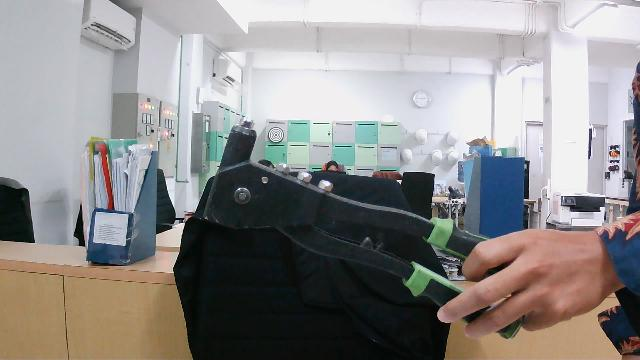tang_rivet: (199, 113, 545, 348)
